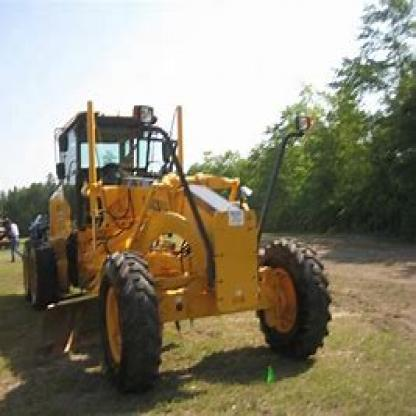bull_dozer/loader/grader: (20, 104, 349, 400)
